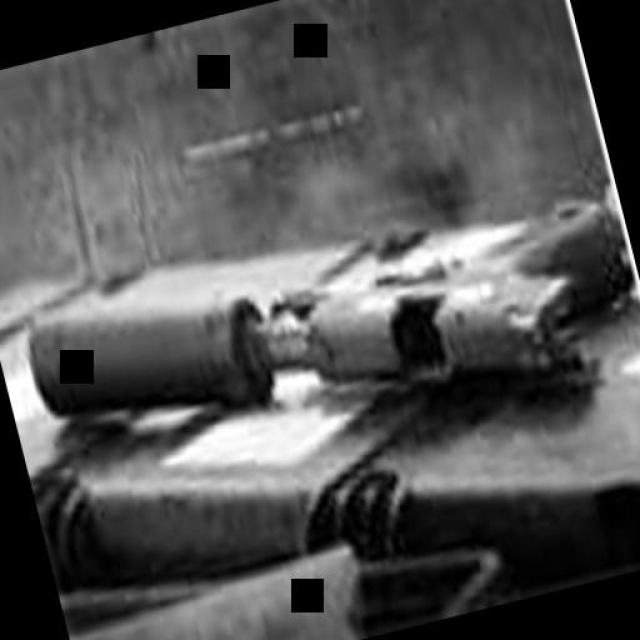gun: (7, 147, 640, 503)
